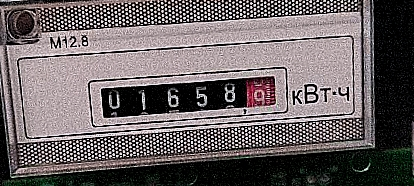0: (106, 87, 121, 110)
1: (136, 88, 148, 111)
5: (193, 84, 209, 108)
6: (164, 85, 180, 108)
8: (220, 80, 236, 103)
9: (249, 87, 265, 109)
screen: (80, 57, 297, 135)
